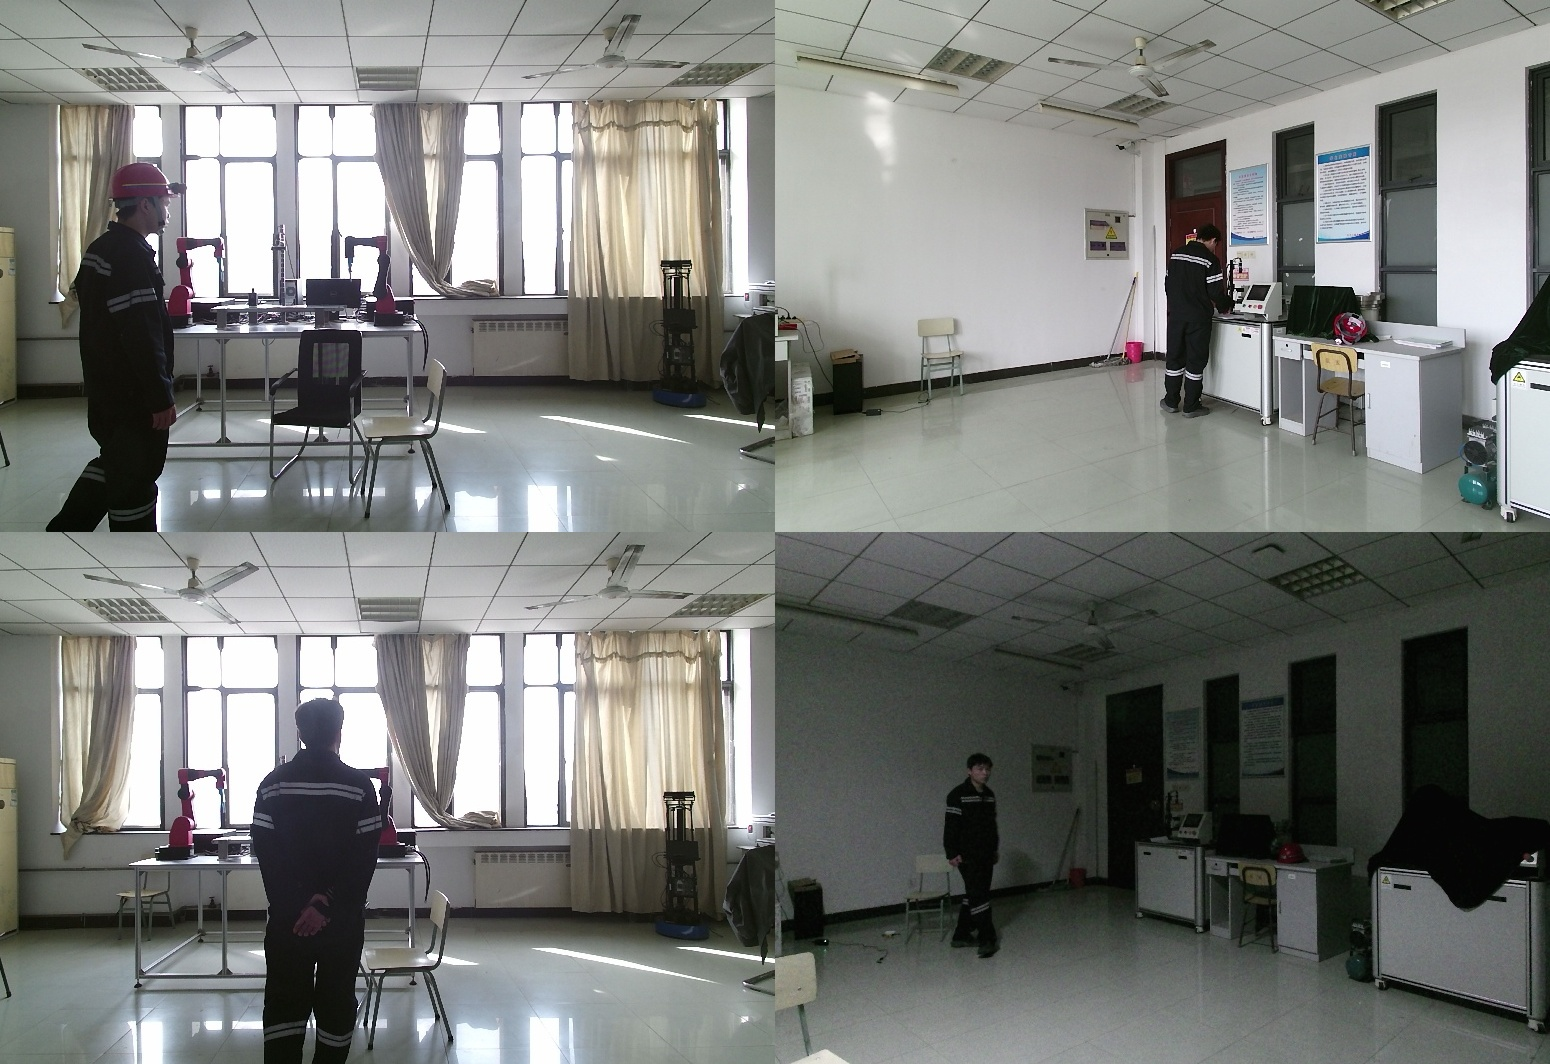person: (249, 699, 398, 1064), (46, 163, 190, 532), (1155, 223, 1237, 426), (937, 753, 1008, 964)
